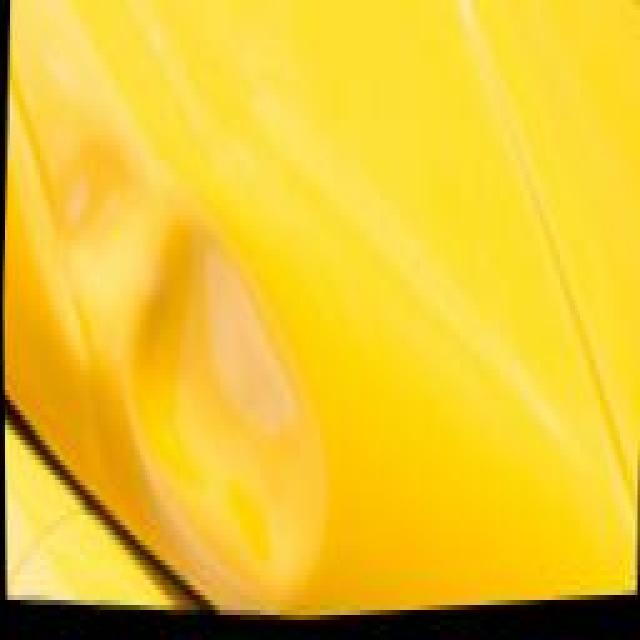Fender: (0, 5, 482, 553)
